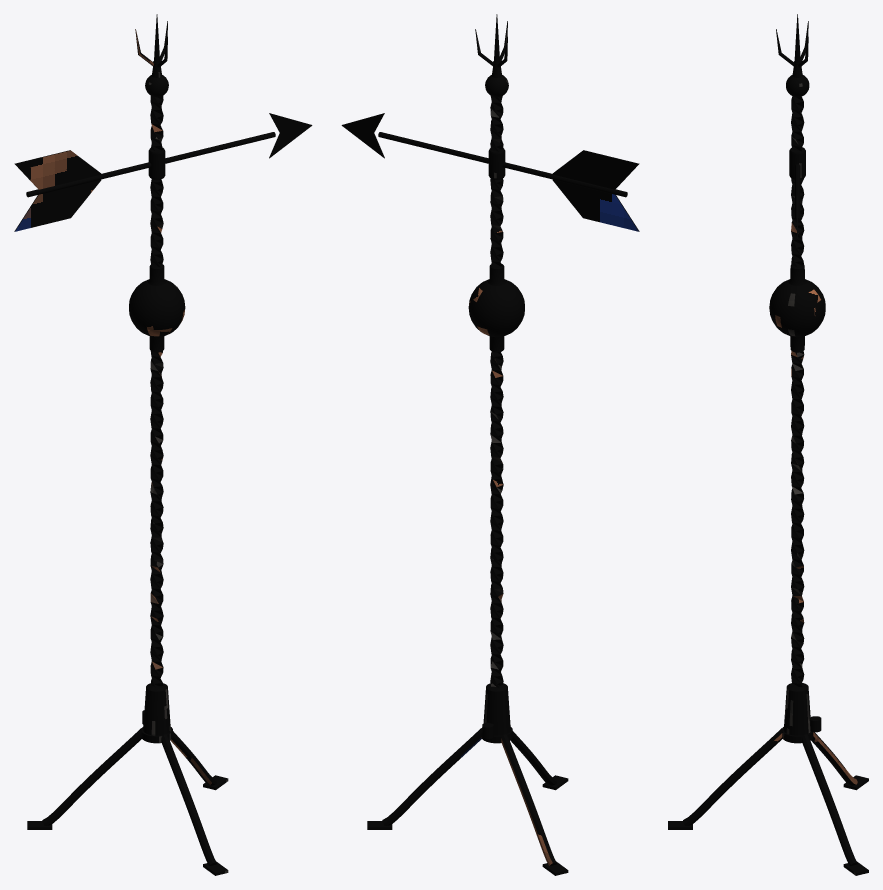
The model's file is item.obj.
The picture shows the model from 3 angles, left to right: view 1: azimuth 30°, elevation 25°; view 2: azimuth 150°, elevation 25°; view 3: azimuth 270°, elevation 25°; orthographic projection.
Parts seen in each view (by area): view 1: arrow_tail, rod_lower, ball, rod_upper, collar, arrow_shaft, leg_1, leg_2, arrow_head; view 2: arrow_tail, rod_lower, ball, rod_upper, arrow_shaft, collar, leg_2, leg_0, arrow_head; view 3: rod_lower, ball, rod_upper, collar, leg_0, leg_1, leg_2, vane_collar, knob.
Boxes of the visible parts, x1,y1,x2,y2 form: arrow_tail: (14, 150, 101, 231); rod_lower: (150, 375, 163, 687); ball: (129, 279, 185, 337); rod_upper: (150, 96, 163, 267); collar: (141, 683, 172, 743); arrow_shaft: (26, 132, 275, 197); leg_1: (161, 734, 216, 865); leg_2: (42, 728, 142, 825); arrow_head: (269, 113, 312, 158); arrow_tail: (552, 150, 639, 231); rod_lower: (490, 375, 503, 687); ball: (468, 279, 524, 337); rod_upper: (490, 96, 503, 267); arrow_shaft: (378, 132, 627, 197); collar: (481, 683, 512, 743); leg_2: (501, 734, 556, 865); leg_0: (382, 728, 482, 825); arrow_head: (341, 113, 384, 158); rod_lower: (791, 375, 804, 687); ball: (769, 279, 825, 337); rod_upper: (791, 96, 804, 267); collar: (782, 683, 813, 743); leg_0: (802, 734, 857, 865); leg_1: (683, 728, 782, 825); leg_2: (811, 732, 857, 785); vane_collar: (789, 147, 805, 179); knob: (786, 75, 809, 97).
Size of the model in its own units: 0.69 by 1.8 by 0.403.
